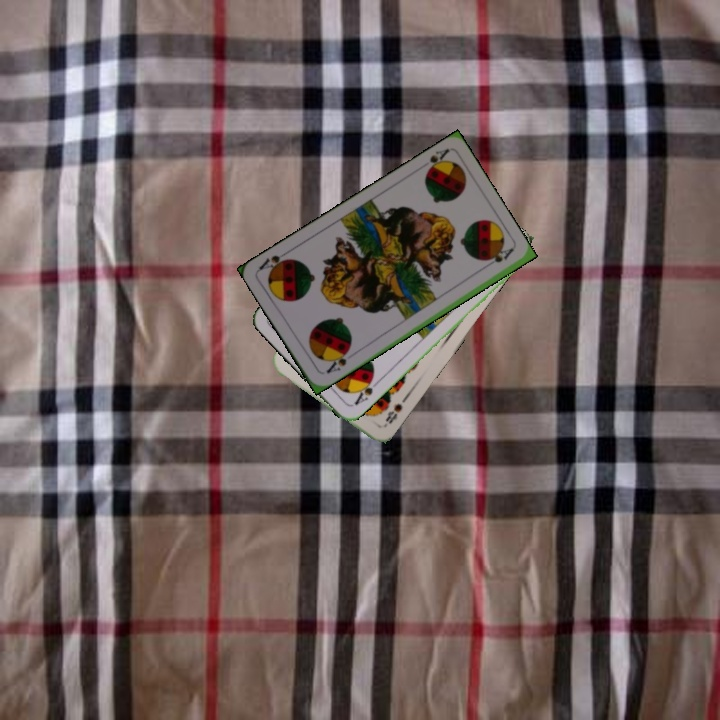S8: (379, 399, 405, 430)
SA: (350, 373, 381, 408), (421, 145, 452, 178), (322, 345, 353, 376)
